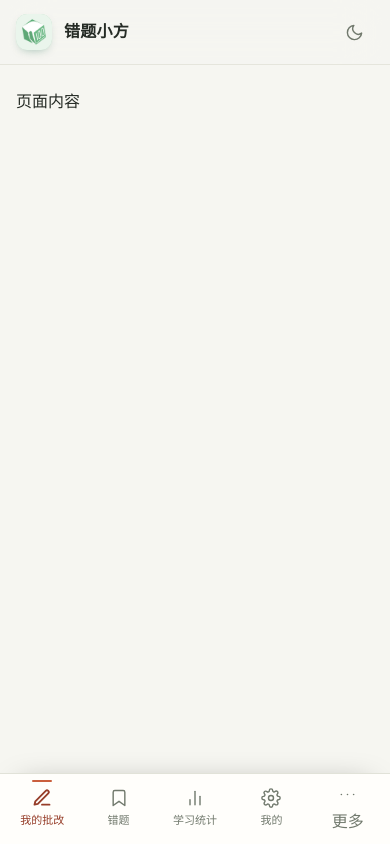
Test: does not expose teacher resources in student navigation
The width and height of the screenshot is (390, 844).
Click the button with aria-label "打开更多功能". click: (348, 808)
box: x1=310 y1=780 x2=386 y2=836
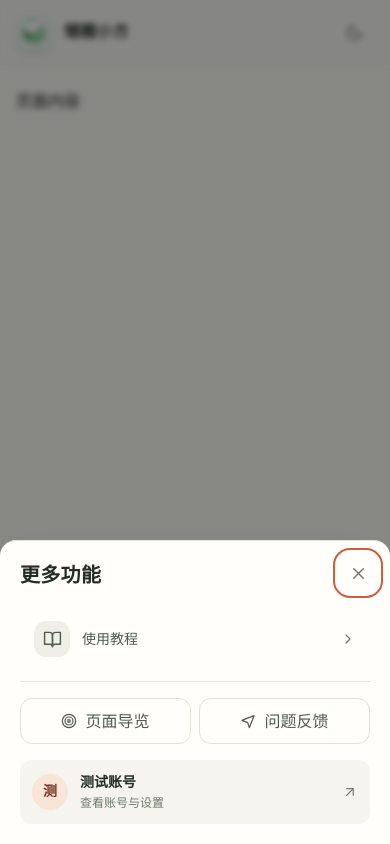
expect the link "使用教程" is shown: met, box x1=20 y1=613 x2=370 y2=665
